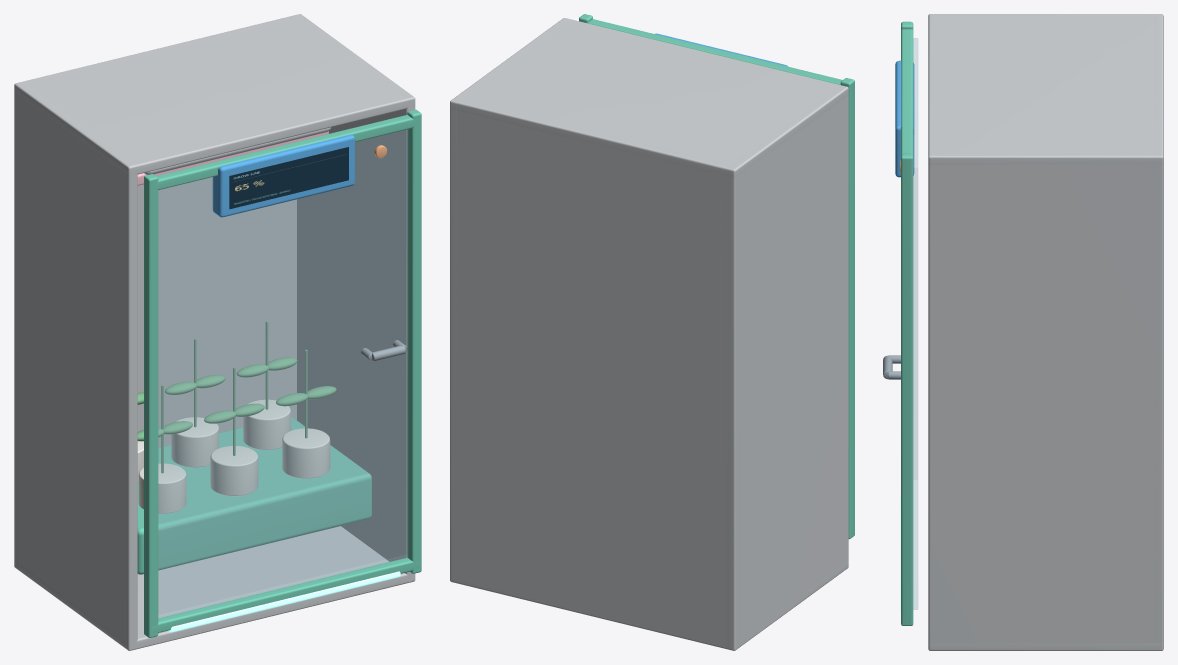
File: plant_chamber.glb
3 renders of one model, left to right at view 1: azimuth 30°, elevation 25°; view 2: azimuth 150°, elevation 25°; view 3: azimuth 270°, elevation 25°, orthographic. The views are drawn at different scales.
Visible parts, largest first — view 1: Plant_Glass, Plant_Chamber_Left, Plant_Chamber_Top, Plant_Chamber_Right, Plant_Chamber_Rear, Plant_Tray_Box, Plant_Chamber_Bottom, Plant_Door_Frame-0.33, Plant_Door_Frame0.33, Plant_Monitor_Screen, Plant_Monitor_Housing, Plant_Frame0.07 (+9 smaller); view 2: Plant_Chamber_Rear, Plant_Chamber_Left, Plant_Chamber_Top, Plant_Door_Frame-0.33, Plant_Chamber_Right, Plant_Frame1.13, Plant_Chamber_Bottom; view 3: Plant_Chamber_Right, Plant_Chamber_Top, Plant_Door_Frame0.33, Plant_Glass, Plant_Chamber_Rear, Plant_Chamber_Bottom, Plant_Frame1.13, Plant_Monitor_Housing.
Boxes of the visible parts, box(x1,y1,x2,y2) form: Plant_Glass: box(158, 129, 407, 618); Plant_Chamber_Left: box(14, 82, 137, 649); Plant_Chamber_Top: box(14, 14, 415, 175); Plant_Chamber_Right: box(295, 15, 415, 582); Plant_Chamber_Rear: box(14, 14, 303, 569); Plant_Tray_Box: box(137, 416, 371, 574); Plant_Chamber_Bottom: box(14, 526, 415, 650); Plant_Door_Frame-0.33: box(144, 174, 158, 637); Plant_Door_Frame0.33: box(407, 109, 421, 573); Plant_Monitor_Screen: box(229, 147, 348, 209); Plant_Monitor_Housing: box(212, 134, 354, 217); Plant_Frame0.07: box(152, 557, 419, 633); Plant_Chamber_Rear: box(451, 103, 739, 648); Plant_Chamber_Left: box(727, 86, 848, 650); Plant_Chamber_Top: box(450, 18, 848, 177); Plant_Door_Frame-0.33: box(840, 78, 854, 539); Plant_Chamber_Right: box(450, 18, 569, 582); Plant_Frame1.13: box(588, 19, 842, 84); Plant_Chamber_Bottom: box(450, 561, 848, 650); Plant_Chamber_Right: box(928, 152, 1163, 649); Plant_Chamber_Top: box(928, 14, 1163, 164); Plant_Door_Frame0.33: box(901, 153, 913, 625); Plant_Glass: box(913, 38, 917, 609); Plant_Chamber_Rear: box(1154, 15, 1161, 650); Plant_Chamber_Bottom: box(928, 643, 1163, 650); Plant_Frame1.13: box(901, 29, 913, 154); Plant_Monitor_Housing: box(895, 60, 914, 177).
Size of the model in its own units: 0.72 by 1.16 by 0.596.
13 materials, 1 textured.
